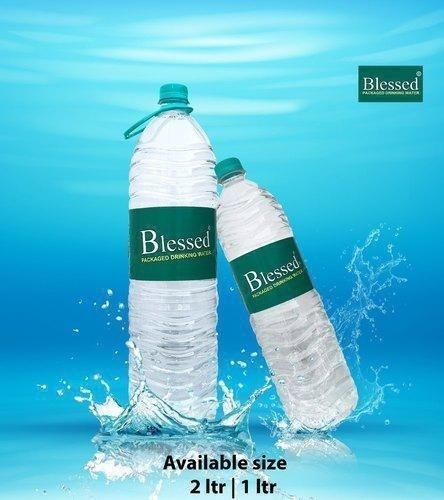bottle-plastic: (215, 156, 361, 437), (124, 84, 221, 415)
